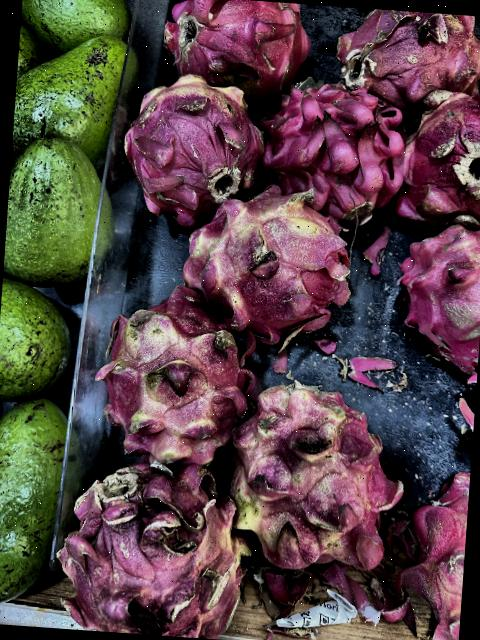buah-naga-belum-matang: (54, 454, 254, 640), (225, 375, 402, 568), (73, 281, 253, 463), (180, 184, 360, 342), (125, 71, 268, 218)
buah-naga-matang: (250, 64, 409, 226), (152, 0, 318, 96), (389, 214, 480, 380), (324, 6, 480, 102), (402, 462, 470, 640), (395, 82, 480, 221)
